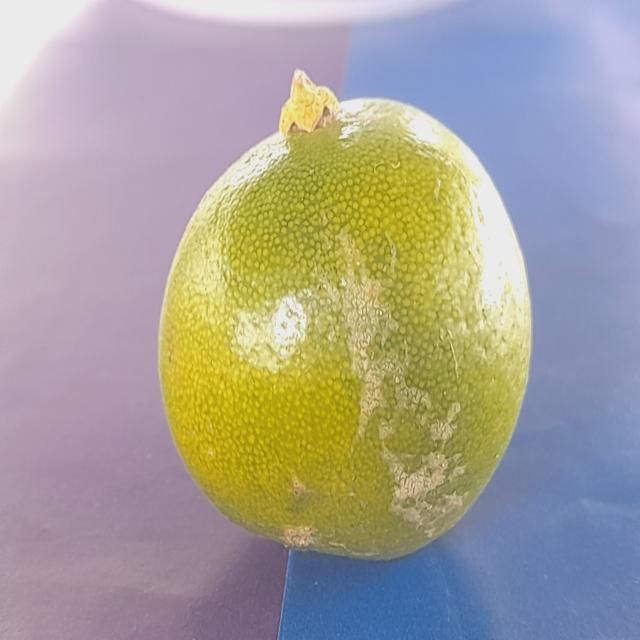thrips: (146, 72, 536, 574)
